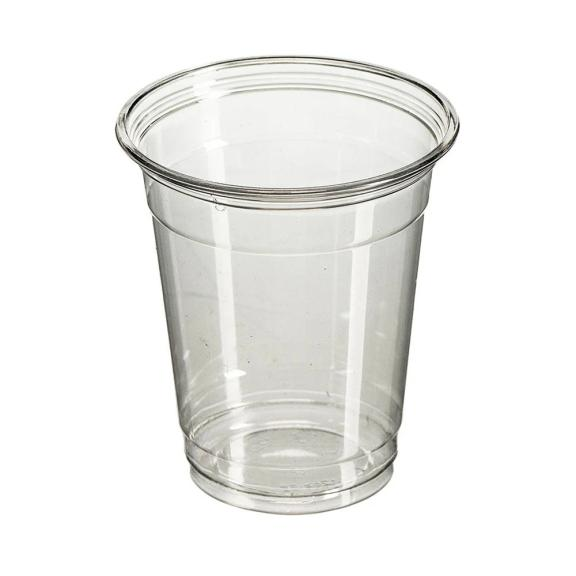Plastik: (117, 56, 458, 513)
